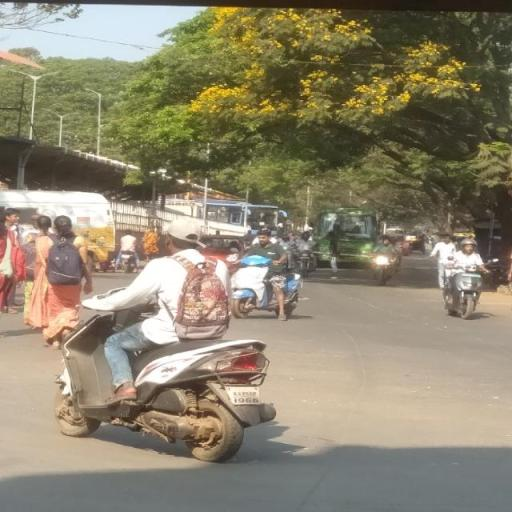bike: (44, 218, 278, 460)
numberplate: (226, 388, 264, 405)
withouthelmet: (168, 219, 204, 250)
